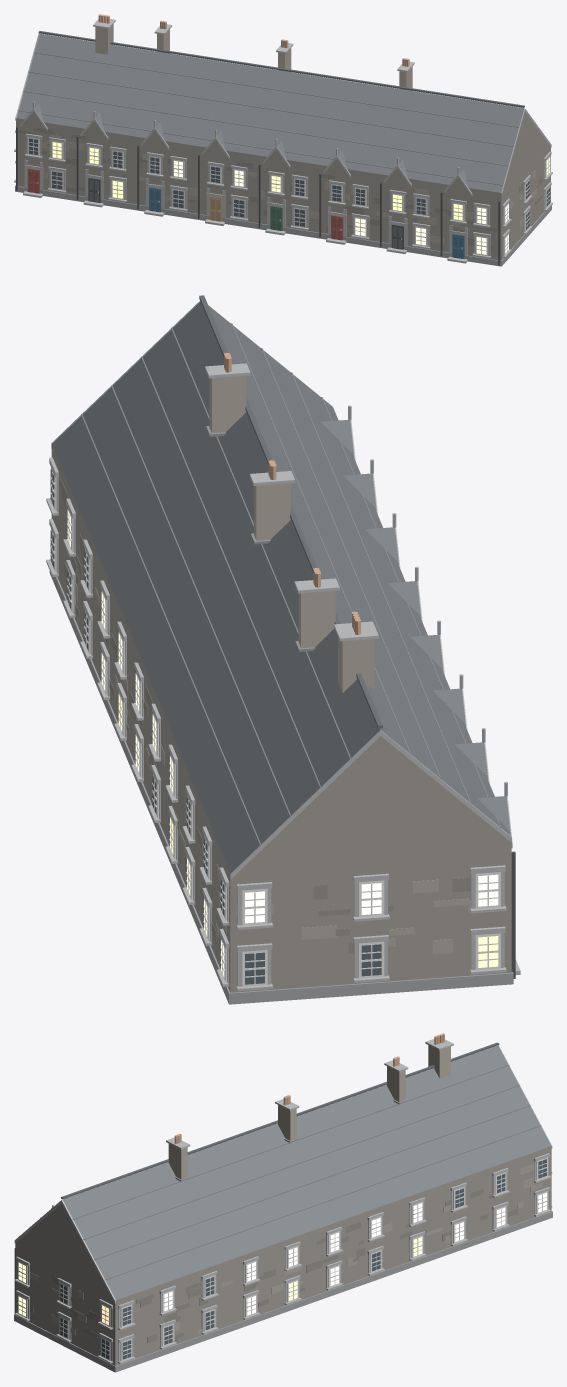
3 views of the same model, one above another, from view 1: azimuth 30°, elevation 25°; view 2: azimuth 150°, elevation 25°; view 3: azimuth 270°, elevation 25° (orthographic). The views are drawn at different scales.
Parts seen in each view (by area): view 1: slate, rubble, dress_dark, frame, windows, plinth, slate_lt, rubble_dk, pipe, slate_dk, rubble_lt, chim_stone (+6 smaller); view 2: slate, rubble, dress_dark, slate_lt, frame, chim_stone, windows, plinth, rubble_dk, rubble_lt, slate_dk; view 3: slate, rubble, dress_dark, frame, windows, plinth, slate_lt, rubble_dk, chim_stone, slate_dk, rubble_lt.
Part boxes in pixels (<box>): slate: <box>16,33,524,193</box>; rubble: <box>16,111,550,260</box>; dress_dark: <box>14,19,552,263</box>; frame: <box>28,137,550,255</box>; windows: <box>29,138,550,254</box>; plinth: <box>15,185,551,266</box>; slate_lt: <box>17,52,519,185</box>; rubble_dk: <box>18,127,542,249</box>; pipe: <box>16,126,500,264</box>; slate_dk: <box>38,31,524,107</box>; rubble_lt: <box>25,135,536,243</box>; chim_stone: <box>95,24,412,90</box>; slate: <box>52,302,510,873</box>; rubble: <box>51,445,511,992</box>; dress_dark: <box>46,301,520,991</box>; slate_lt: <box>81,323,501,844</box>; frame: <box>50,467,500,986</box>; chim_stone: <box>209,375,374,692</box>; windows: <box>50,469,498,984</box>; plinth: <box>49,571,513,1004</box>; rubble_dk: <box>60,477,470,953</box>; rubble_lt: <box>75,582,470,954</box>; slate_dk: <box>199,295,382,728</box>; slate: <box>63,1045,551,1299</box>; rubble: <box>15,1146,551,1365</box>; dress_dark: <box>14,1039,552,1363</box>; frame: <box>18,1157,547,1361</box>; windows: <box>18,1159,546,1359</box>; plinth: <box>14,1211,552,1372</box>; slate_lt: <box>19,1065,541,1280</box>; rubble_dk: <box>29,1188,518,1343</box>; chim_stone: <box>168,1045,450,1179</box>; slate_dk: <box>61,1042,499,1199</box>; rubble_lt: <box>29,1164,542,1335</box>.
Size of the model in its own units: 32.82 by 13 by 36.16.
